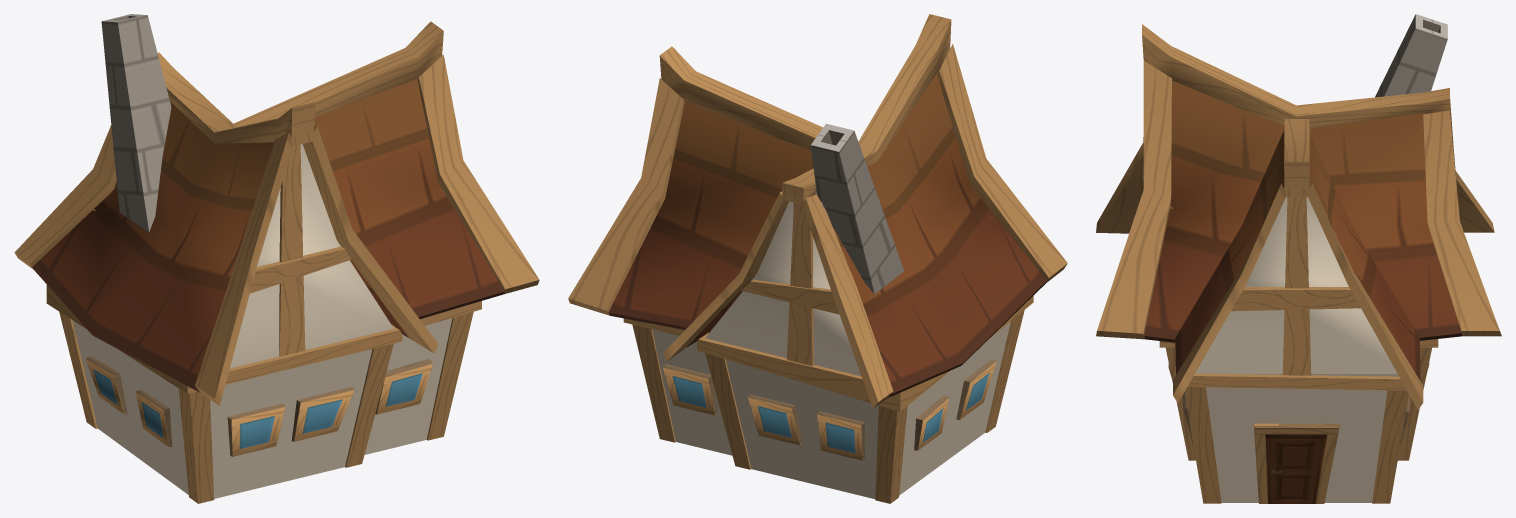
File: building_house_lv2.FBX
3 renders of one model, left to right at view 1: azimuth 30°, elevation 25°; view 2: azimuth 150°, elevation 25°; view 3: azimuth 270°, elevation 25°, orthographic. The views are drawn at different scales.
Parts seen in each view (by area): view 1: building_house_main_lv2, building_house_lv2; view 2: building_house_main_lv2, building_house_lv2; view 3: building_house_main_lv2, building_house_lv2.
Boxes of the visible parts, x1,y1,x2,y2 form: building_house_main_lv2: [32, 78, 504, 498]; building_house_lv2: [14, 14, 539, 503]; building_house_main_lv2: [608, 72, 1046, 498]; building_house_lv2: [568, 14, 1067, 503]; building_house_main_lv2: [1144, 80, 1462, 502]; building_house_lv2: [1096, 14, 1501, 503].
Size of the model in its own units: 287 by 294 by 276.
